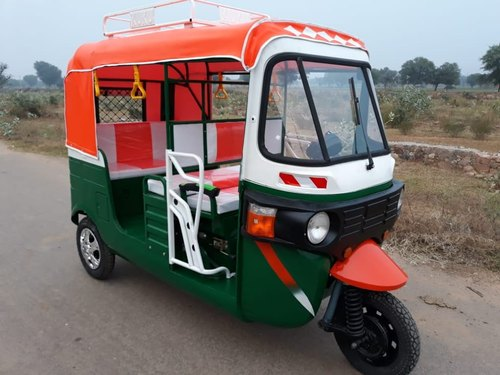rickshaw: (46, 2, 433, 375)
